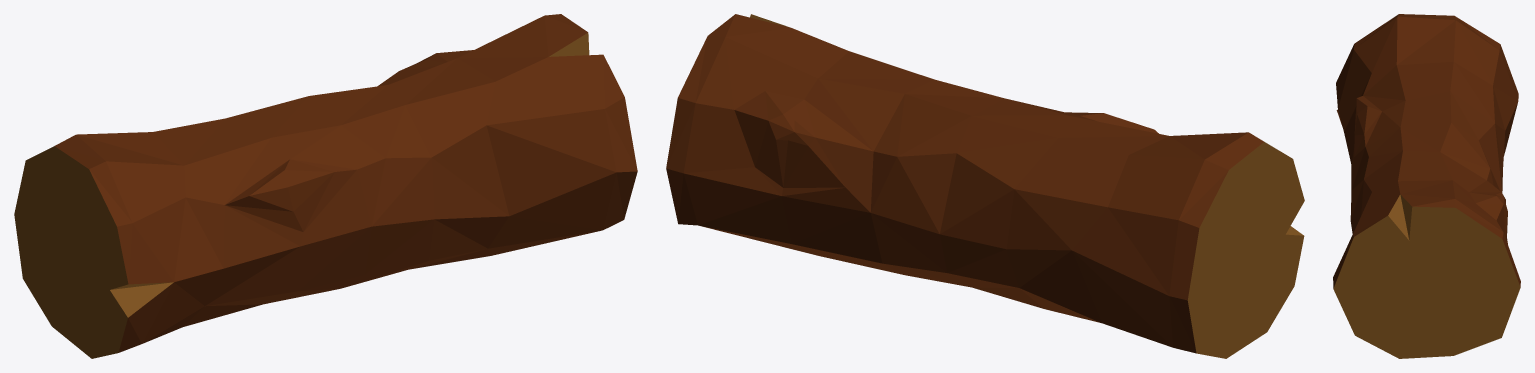
The model's file is LogA.fbx.
The picture shows the model from 3 angles, left to right: view 1: azimuth 30°, elevation 25°; view 2: azimuth 150°, elevation 25°; view 3: azimuth 270°, elevation 25°; orthographic projection. The views are drawn at different scales.
Visible parts, largest first — view 1: LogA; view 2: LogA; view 3: LogA.
Part boxes in pixels (box(x1,y1,x2,y2)): LogA: box(14, 14, 637, 358); LogA: box(666, 14, 1304, 358); LogA: box(1333, 14, 1520, 358).
Size of the model in its own units: 96.93 by 35.84 by 38.82.
